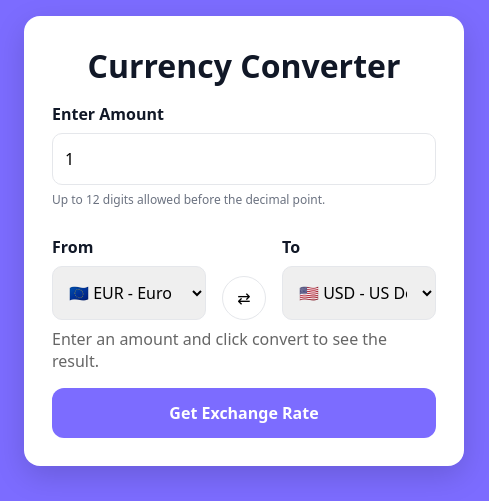
Test: App › shows helper text initially and loading when converting
Expected: the dropdown labelled "From" is shown, [52, 266, 206, 320]
Expected: the text "Enter an amount and click convert to see the result." is shown, [52, 328, 436, 372]
Click the button "Get Exchange Rate": (244, 413) [52, 388, 436, 438]
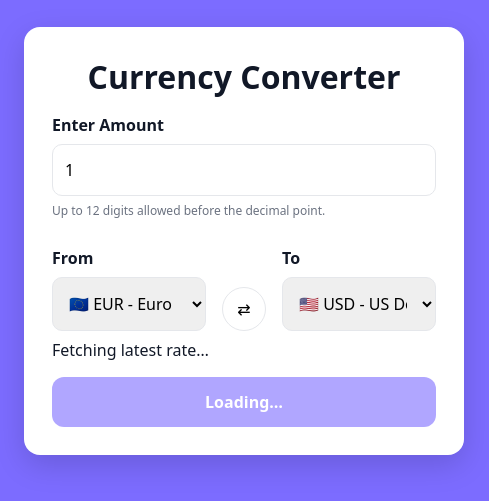
Result: the text "Fetching latest rate…" is shown at [52, 339, 209, 361]
